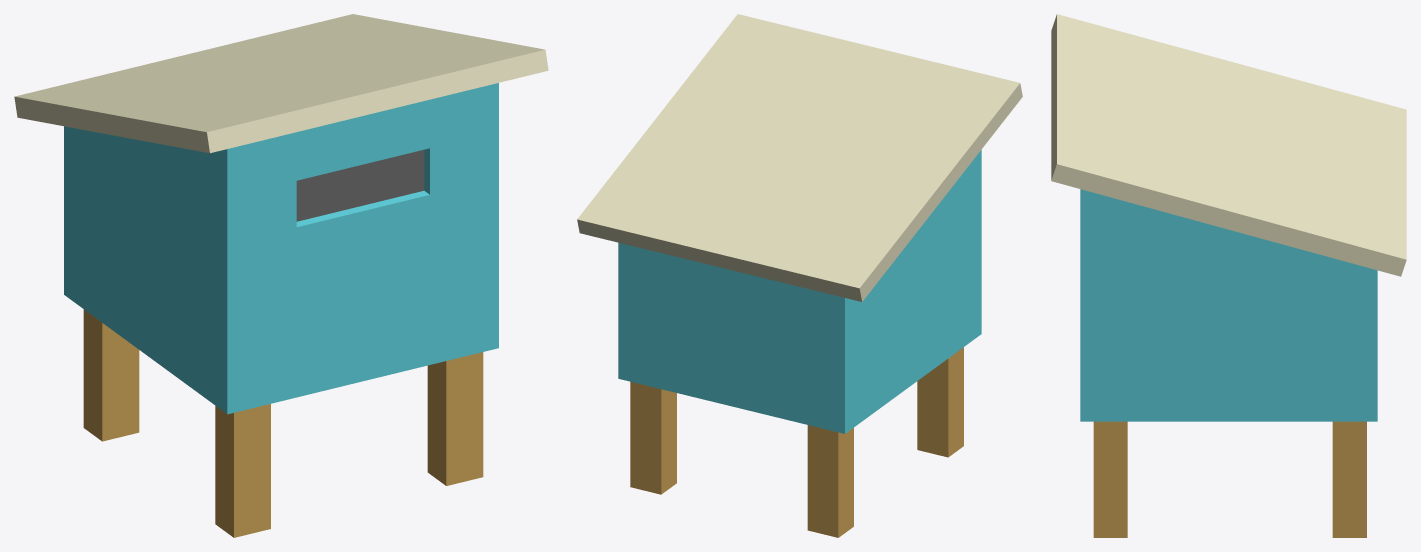
The model's file is hive_5.fbx.
3 renders of one model, left to right at view 1: azimuth 30°, elevation 25°; view 2: azimuth 150°, elevation 25°; view 3: azimuth 270°, elevation 25°, orthographic. The views are drawn at different scales.
Parts seen in each view (by area): view 1: Cube_12; view 2: Cube_12; view 3: Cube_12.
Boxes of the visible parts, left/top/right/bottom form: Cube_12: left=14, top=14, right=548, bottom=537; Cube_12: left=577, top=14, right=1022, bottom=537; Cube_12: left=1051, top=14, right=1406, bottom=537.
Size of the model in its own units: 82.26 by 100 by 82.34.
